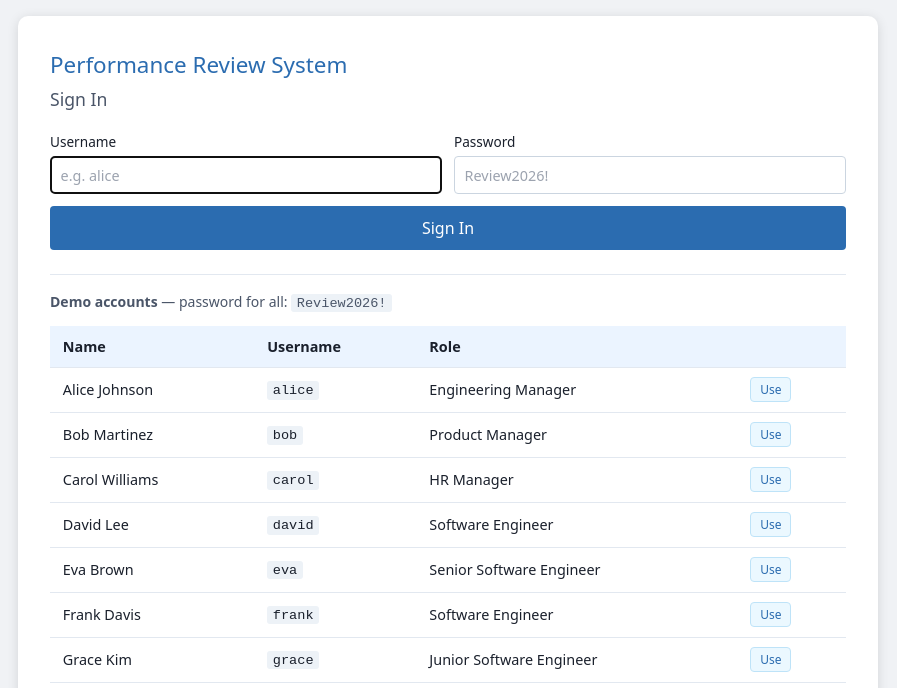
Test case: Login › quick-fill "Use" button populates username and password fields
Click the button "Use" in the row of "Alice Johnson" at (771, 390), box [750,377,791,402]
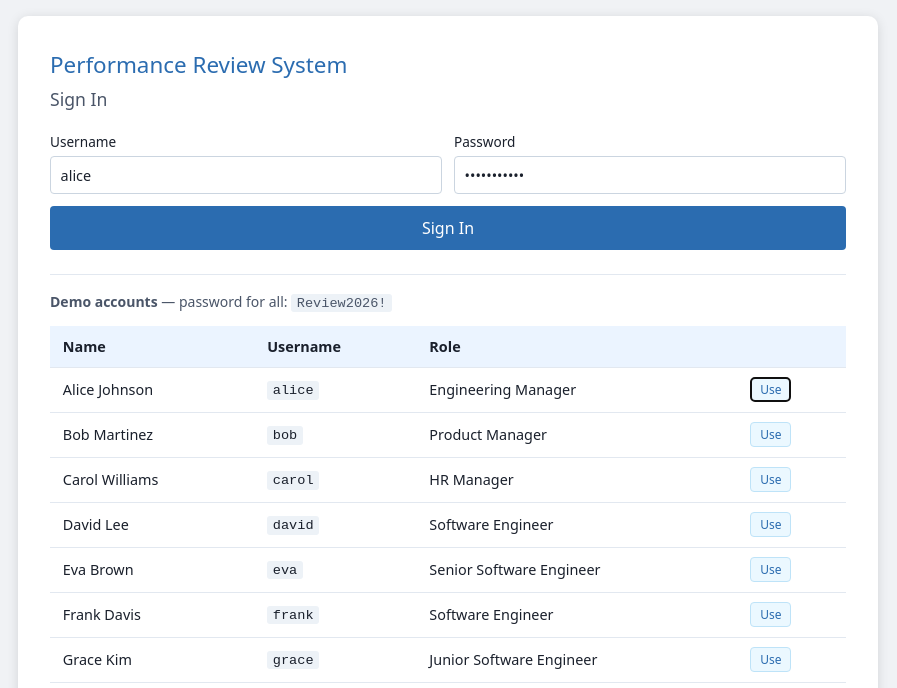
Result: the field with placeholder "e.g. alice" holds "alice" at [50,156,442,194]
Result: the password field with placeholder "Review2026!" holds "Review2026!" at [454,156,846,194]
